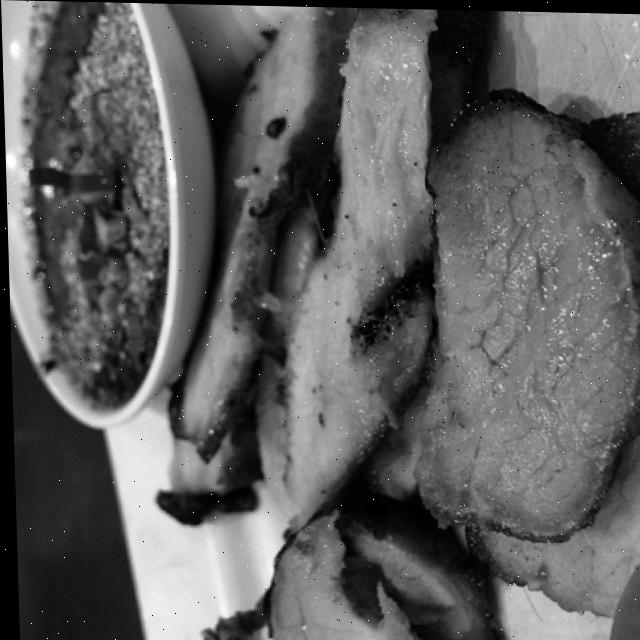猪肉菜式: (5, 4, 640, 640)
